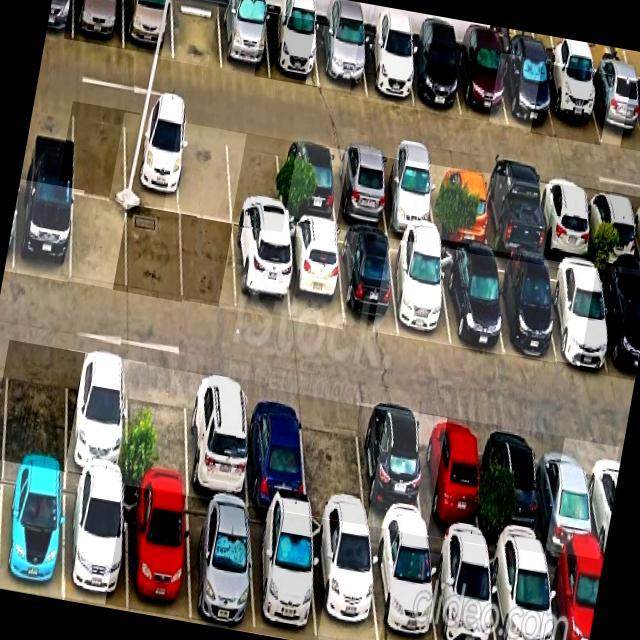empty: (302, 396, 366, 525), (4, 341, 68, 468), (128, 362, 189, 493), (227, 131, 282, 232), (180, 215, 237, 309), (71, 194, 126, 290), (127, 205, 181, 302), (179, 122, 231, 221), (72, 102, 124, 200), (172, 0, 222, 69)
occupied: (186, 496, 254, 630), (357, 405, 427, 535), (249, 507, 316, 640), (0, 464, 66, 598), (125, 485, 190, 619), (64, 473, 127, 608), (419, 413, 482, 544), (536, 433, 599, 562), (311, 517, 377, 640), (66, 349, 126, 481), (245, 384, 306, 512), (188, 373, 247, 503), (487, 423, 545, 553), (369, 530, 437, 640), (545, 261, 610, 370), (429, 537, 495, 640), (439, 249, 503, 354), (490, 257, 555, 359), (389, 238, 450, 345), (487, 546, 554, 640), (339, 229, 398, 333), (286, 221, 343, 327), (13, 179, 72, 281), (124, 112, 179, 213), (233, 226, 289, 319), (482, 173, 542, 259), (545, 554, 603, 640), (278, 140, 336, 224), (597, 269, 640, 380), (431, 164, 488, 247), (331, 148, 388, 231), (379, 155, 436, 237), (542, 63, 600, 143), (537, 181, 592, 262), (585, 188, 638, 269), (501, 53, 554, 134), (586, 70, 640, 149), (455, 46, 507, 124), (265, 12, 319, 87), (406, 41, 460, 115), (219, 3, 270, 79), (360, 33, 413, 105), (316, 25, 365, 94), (123, 0, 173, 57), (73, 0, 122, 49)
